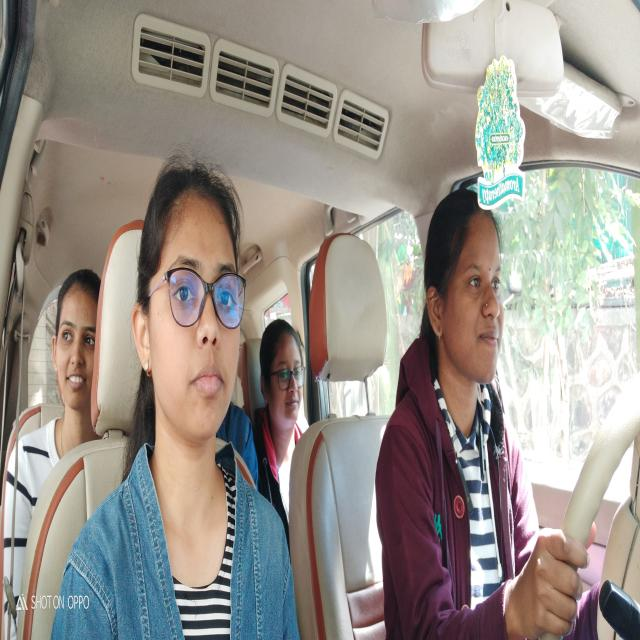person: (144, 181, 239, 436), (428, 202, 501, 382), (54, 275, 94, 409), (260, 322, 304, 429)
